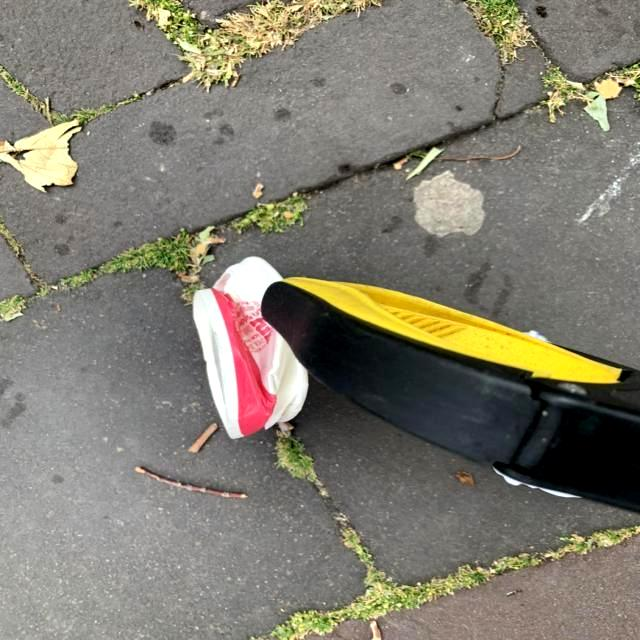Paper: (188, 254, 310, 442)
